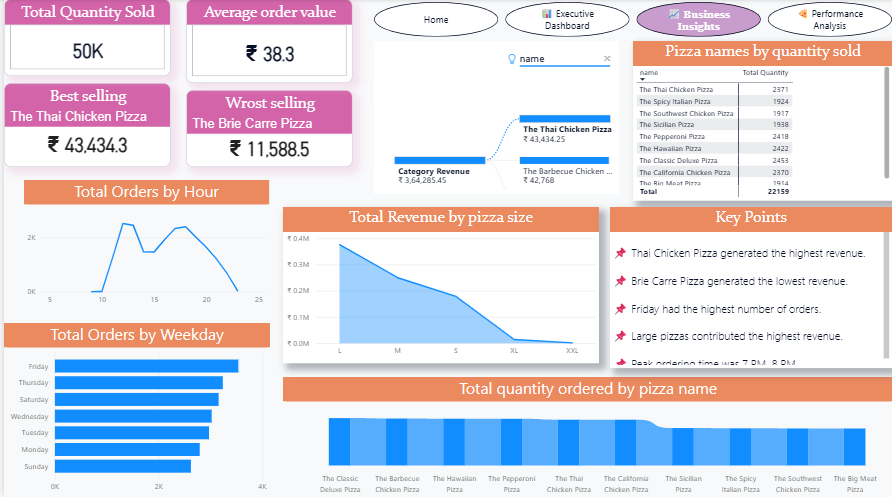

The page's visual inventory and layout, read from the dashboard file:
{"tool":"powerbi","page":{"name":"📈 Business Insights","canvas":[1280,720],"ordinal":2},"visuals":[{"type":"kpi","title":"Best selling","fields":{"TrendLine":["pizza_types.name"],"Indicator":["Table.Total Revenue"]},"box":[0,120.9,240.2,120.9],"z":0},{"type":"kpi","title":"Wrost selling","fields":{"TrendLine":["pizza_types.name"],"Indicator":["Table.Total Revenue"]},"box":[262,131,240.2,110.9],"z":1000},{"type":"cardVisual","title":"Total Quantity Sold","fields":{"Data":["orders_details.Total Quantity"]},"box":[0,0,240.5,110.9],"z":2000},{"type":"pivotTable","title":"Pizza names by quantity sold","fields":{"Values":["orders_details.Total Quantity"],"Rows":["pizza_types.name"]},"box":[905.4,60.5,374.6,230.1],"z":3000},{"type":"cardVisual","title":"Average order value","fields":{"Data":["orders.Average Order Value"]},"box":[262,0,240.2,120.9],"z":4000},{"type":"barChart","fields":{"Y":["orders.Total Orders"],"Category":["Calendar.Weekday"]},"box":[0,467,383,253.6],"z":5000},{"type":"decompositionTreeVisual","fields":{"ExplainBy":["pizza_types.name"],"Analyze":["pizza_types.Category Revenue"]},"box":[532.8,60.5,352.8,220.3],"z":6000},{"type":"ribbonChart","title":"Total quantity ordered by pizza name","fields":{"Category":["pizza_types.name"],"Y":["orders_details.Total Quantity"]},"box":[401.5,544.3,878.5,176.4],"z":7000},{"type":"areaChart","title":"Total Revenue by pizza size","fields":{"Category":["pizzas.size"],"Y":["Table.Total Revenue"]},"box":[401.5,299,455.2,225.1],"z":8000},{"type":"lineChart","fields":{"Y":["orders.Total Orders"],"Category":["orders.Hour"]},"box":[28.6,260.4,352.8,189.8],"z":9000},{"type":"textbox","title":"Key Points","box":[873.3,299.3,406.7,232.4],"z":10000},{"type":"pageNavigator","box":[532.8,4.3,747.4,50.4],"z":11000}]}

Visuals, with their boxes in screenshot pixels (x1, y1, x2, y2), scaled from the page's 1280x720 canvas onto the 892x497 screenshot:
"Best selling" kpi: l=0, t=83, r=167, b=167
"Wrost selling" kpi: l=183, t=90, r=350, b=167
"Total Quantity Sold" cardVisual: l=0, t=0, r=168, b=77
"Pizza names by quantity sold" pivotTable: l=631, t=42, r=891, b=201
"Average order value" cardVisual: l=183, t=0, r=350, b=83
barChart - orders.Total Orders x Calendar.Weekday: l=0, t=322, r=267, b=496
decompositionTreeVisual - pizza_types.name x pizza_types.Category Revenue: l=371, t=42, r=617, b=194
"Total quantity ordered by pizza name" ribbonChart: l=280, t=376, r=891, b=496
"Total Revenue by pizza size" areaChart: l=280, t=206, r=597, b=362
lineChart - orders.Total Orders x orders.Hour: l=20, t=180, r=266, b=311
"Key Points" textbox: l=609, t=207, r=891, b=367
pageNavigator: l=371, t=3, r=891, b=38
